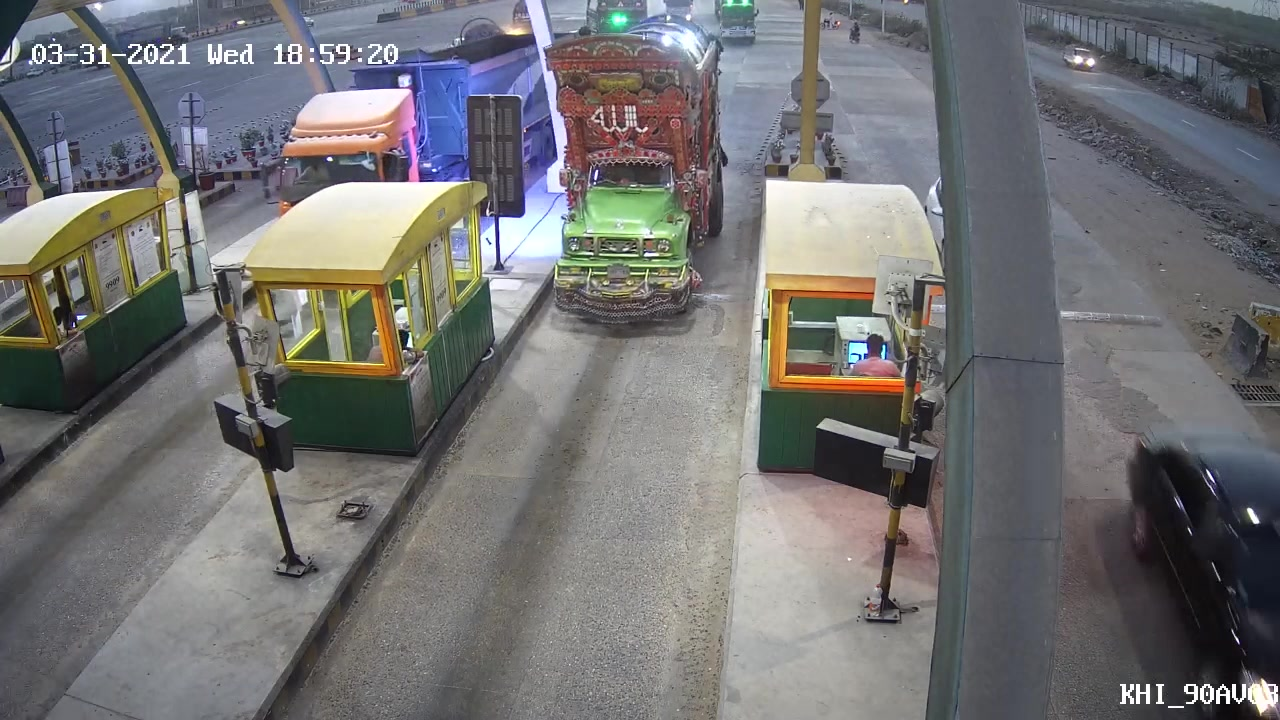F5: (533, 10, 733, 331)
